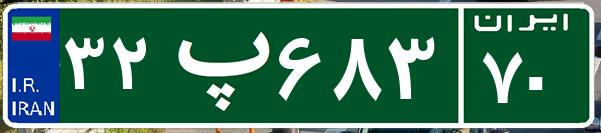0: (525, 38, 570, 115)
2: (110, 28, 158, 105)
3: (385, 28, 445, 110), (57, 26, 110, 107)
6: (273, 28, 330, 110)
7: (475, 38, 525, 113)
8: (330, 28, 385, 110)
پ: (158, 15, 273, 115)
